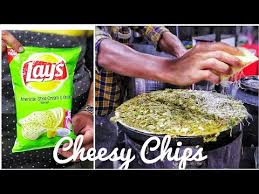lays-med: (4, 41, 75, 153)
